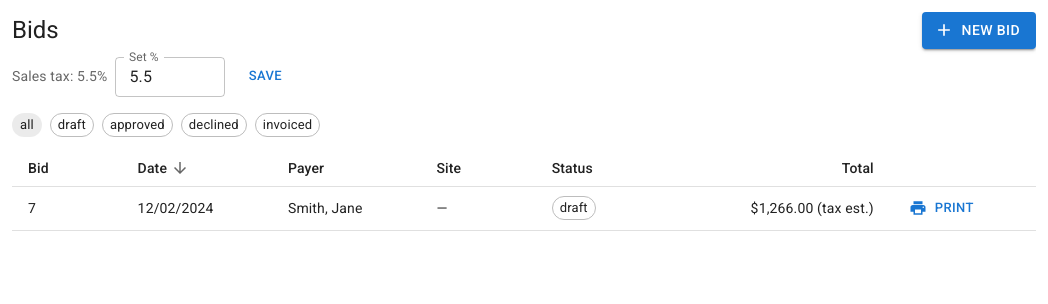
Scenario: T-BIL-10: the bids desk › a 550% rate never reaches the wire — the field refuses it
Expected: the text "Sales tax: 5.5%" is shown, [12,66,107,86]
Replace the text in the field named "sales tax percent" with "550" at (170, 76), box [115,56,225,96]
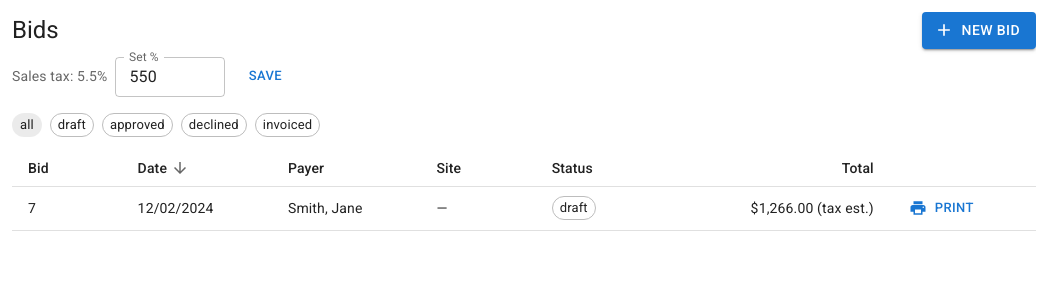
Click the button with aria-label "save sales tax" at (265, 76), box [233,61,297,92]
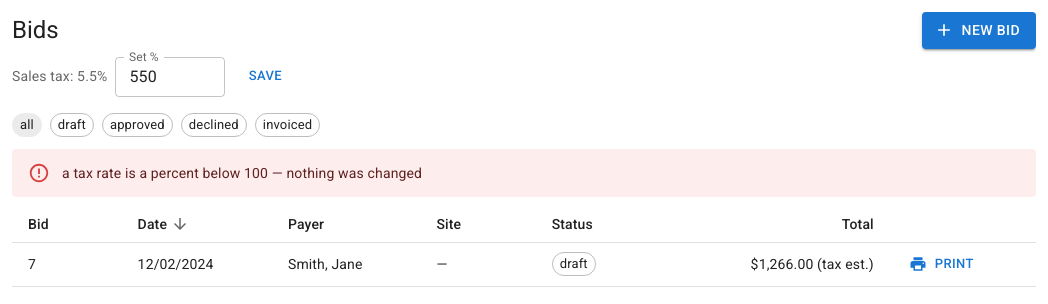
Expected: the text "a tax rate is a percent below 100 — nothing was changed" is shown, [62,164,422,180]
